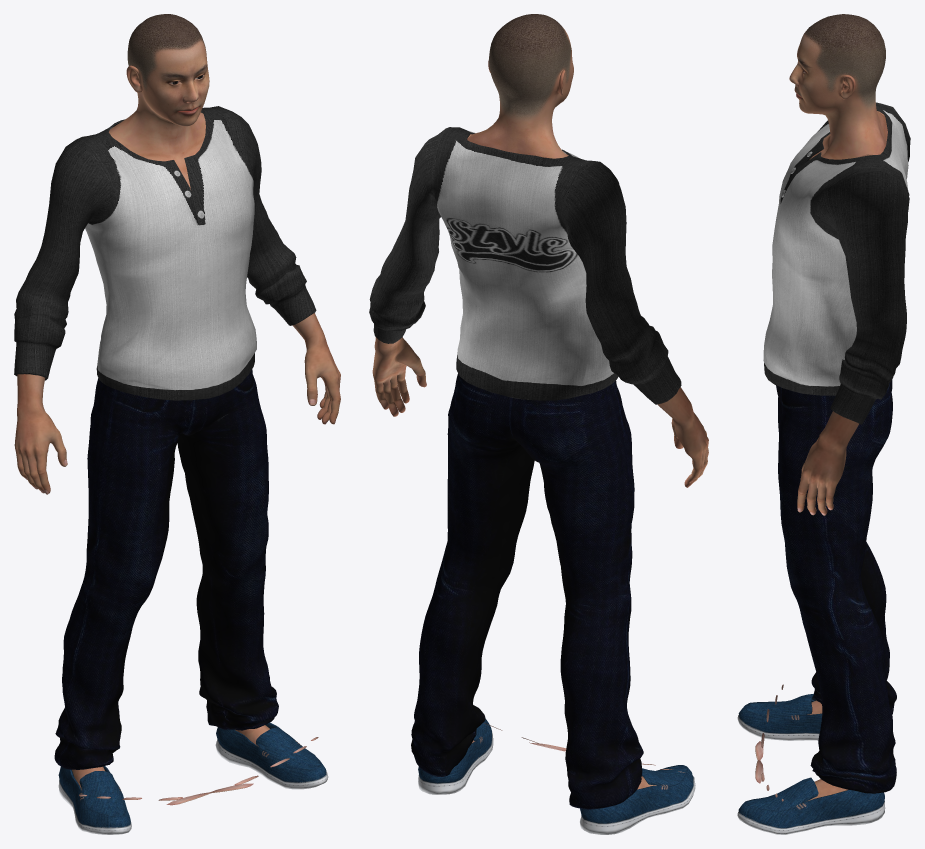
File: dev.glb
3 renders of one model, left to right at view 1: azimuth 30°, elevation 25°; view 2: azimuth 150°, elevation 25°; view 3: azimuth 270°, elevation 25°, orthographic. The views are drawn at different scales.
Parts seen in each view (by area): view 1: man; view 2: man; view 3: man.
Part boxes in pixels (x1,y1,x2,y2): man: [14, 14, 340, 834]; man: [369, 14, 708, 834]; man: [737, 14, 910, 834].
Bounding box in the file's own units: 79.26 × 181 × 37.35.
20 materials, 20 textured.
